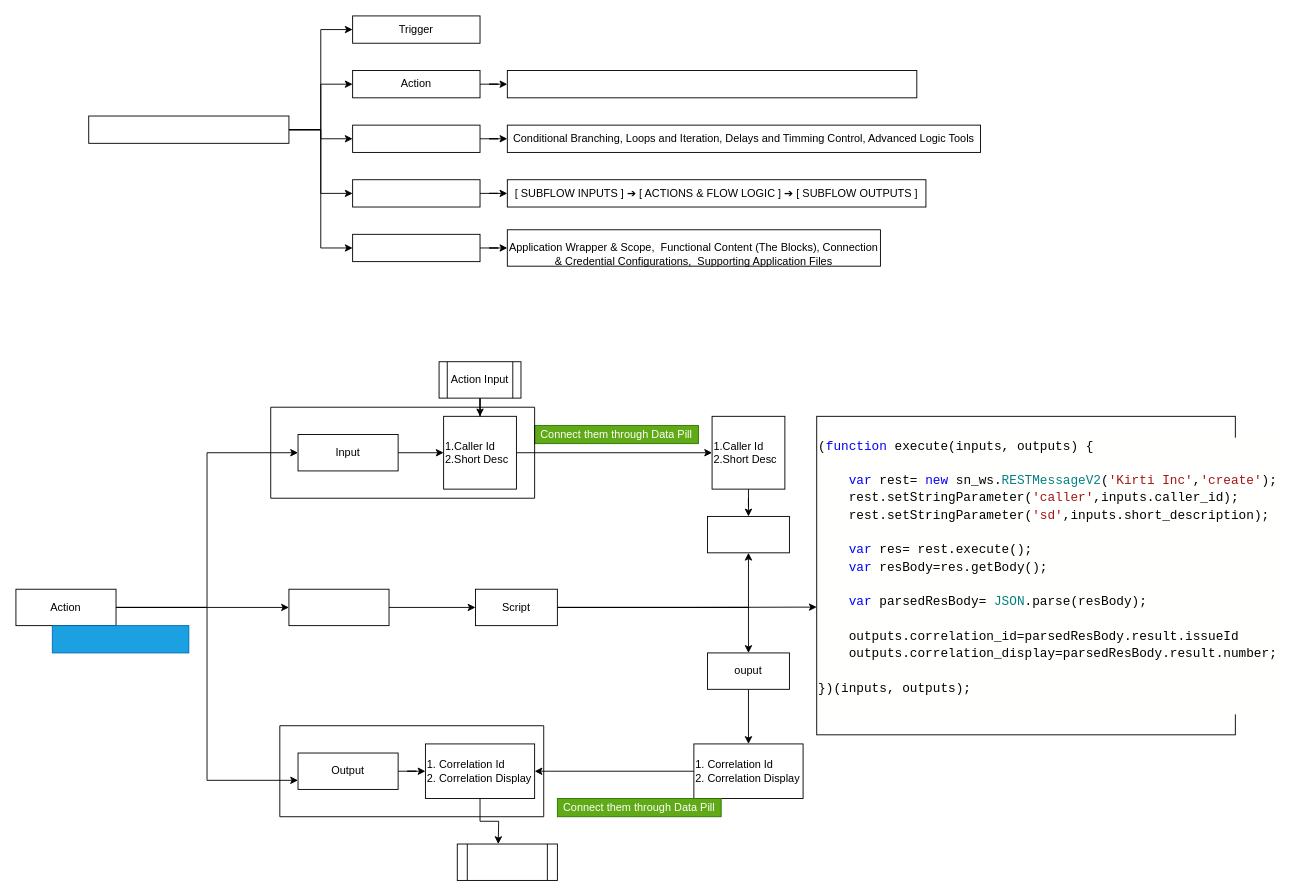
Image size: 1293x896. Some labels were removed from this diagram. The shapes that lost their labels are listed below. From the top down, each one's box as (x1, y1, x2, y2) in pixels, then its label:
(506, 70, 917, 98): [ ACTION INPUTS ] ---> [ ACTION STEPS (1, 2, 3...) ] ---> [ ACTION OUTPUTS ]
(88, 115, 289, 143): Components of a Flow Designer
(352, 124, 480, 152): Flow logic
(352, 179, 480, 207): Subflow
(352, 233, 480, 262): Spoke
(707, 516, 789, 553): Inputs
(288, 588, 389, 626): We added a step
(51, 625, 189, 653): Creation of ITASK on Jira
(456, 843, 557, 880): Action Output
